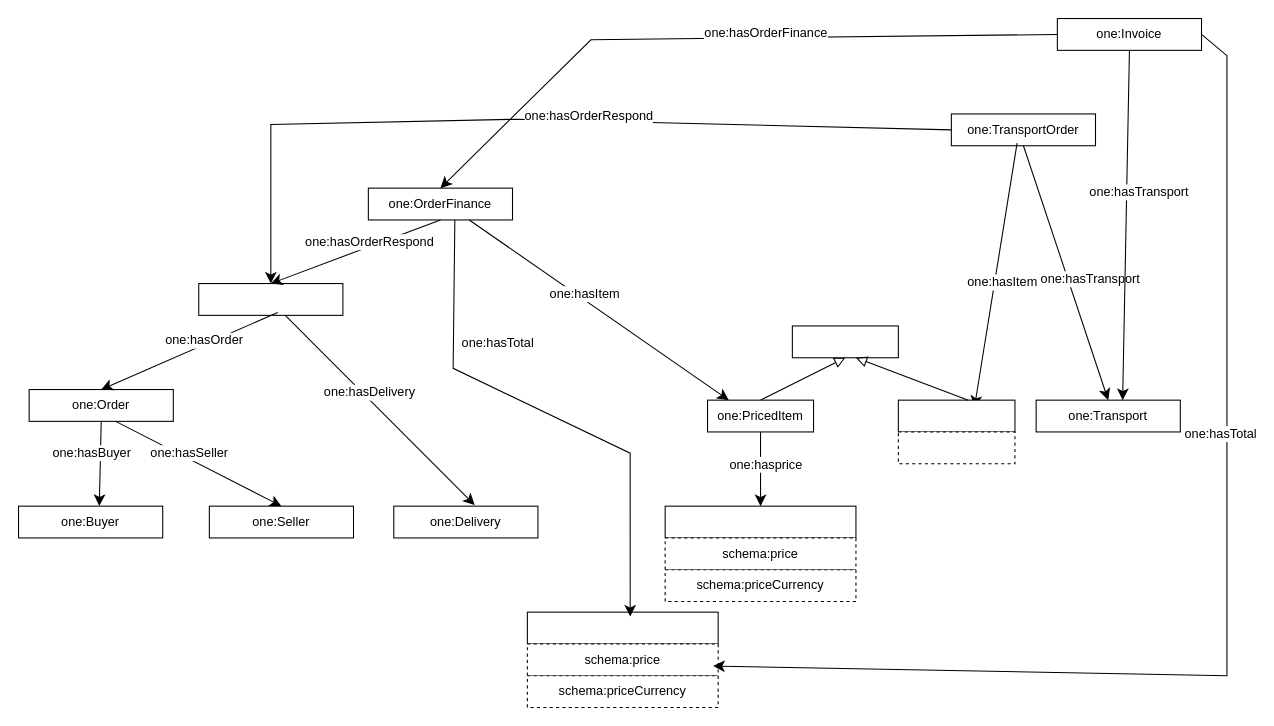
Image size: 1274x726. Some labels were removed from this diagram. Here are the shapes that lost their labels. From the top down, the box of each, then its label:
(198, 282, 343, 315): one:OrderRespond
(791, 325, 898, 358): one:Item
(897, 399, 1015, 432): one:TransportItem
(897, 431, 1015, 464): one:Pack kg m3
(664, 505, 856, 538): one:Price
(526, 611, 718, 644): one:Total
